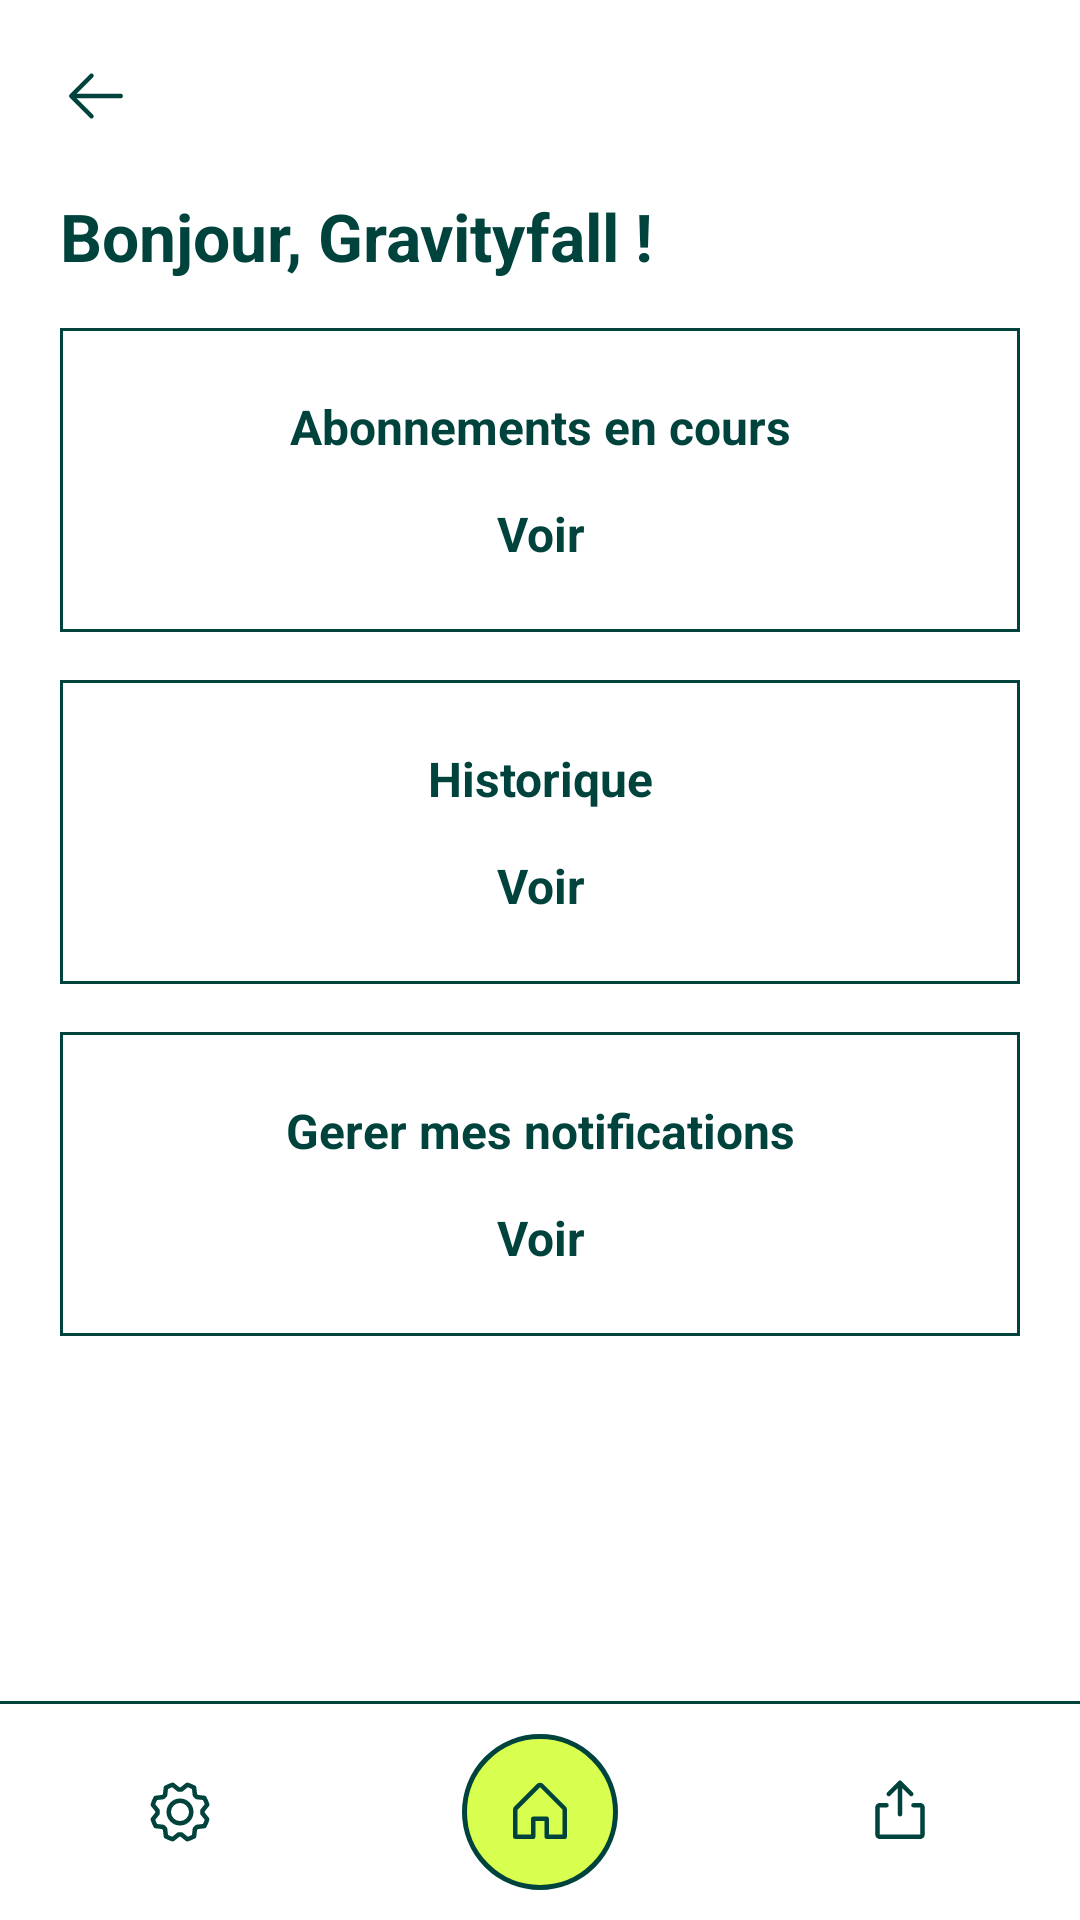

Named icons in this screenshot (1080w x 1920h) and their centers, point (x, y):
Accueil: point (540, 1812)
Paramètres: point (180, 1812)
Partager: point (900, 1809)
Retour: point (96, 96)
